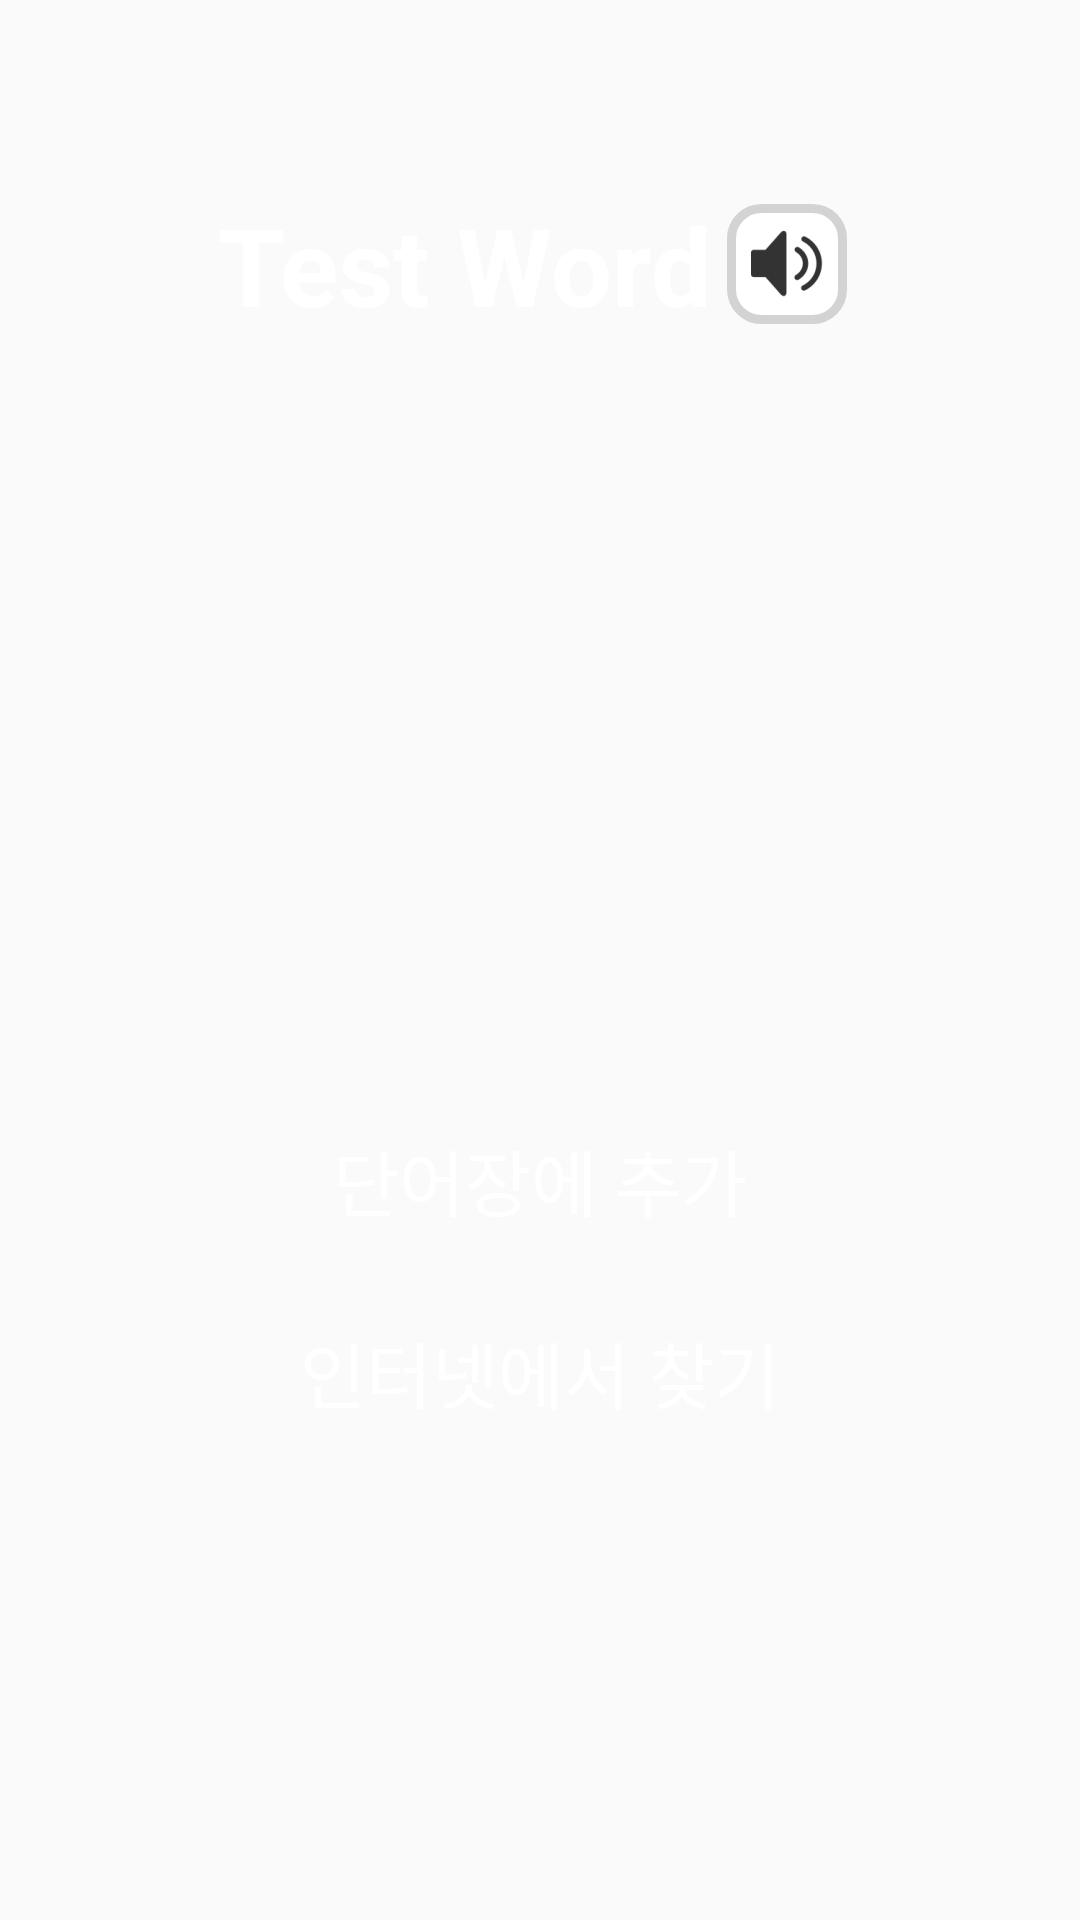

Where icons sit on this 1080x1920 app screen, as BBox(x1, y1, x2, y2):
Speaker image: BBox(727, 204, 847, 324)
